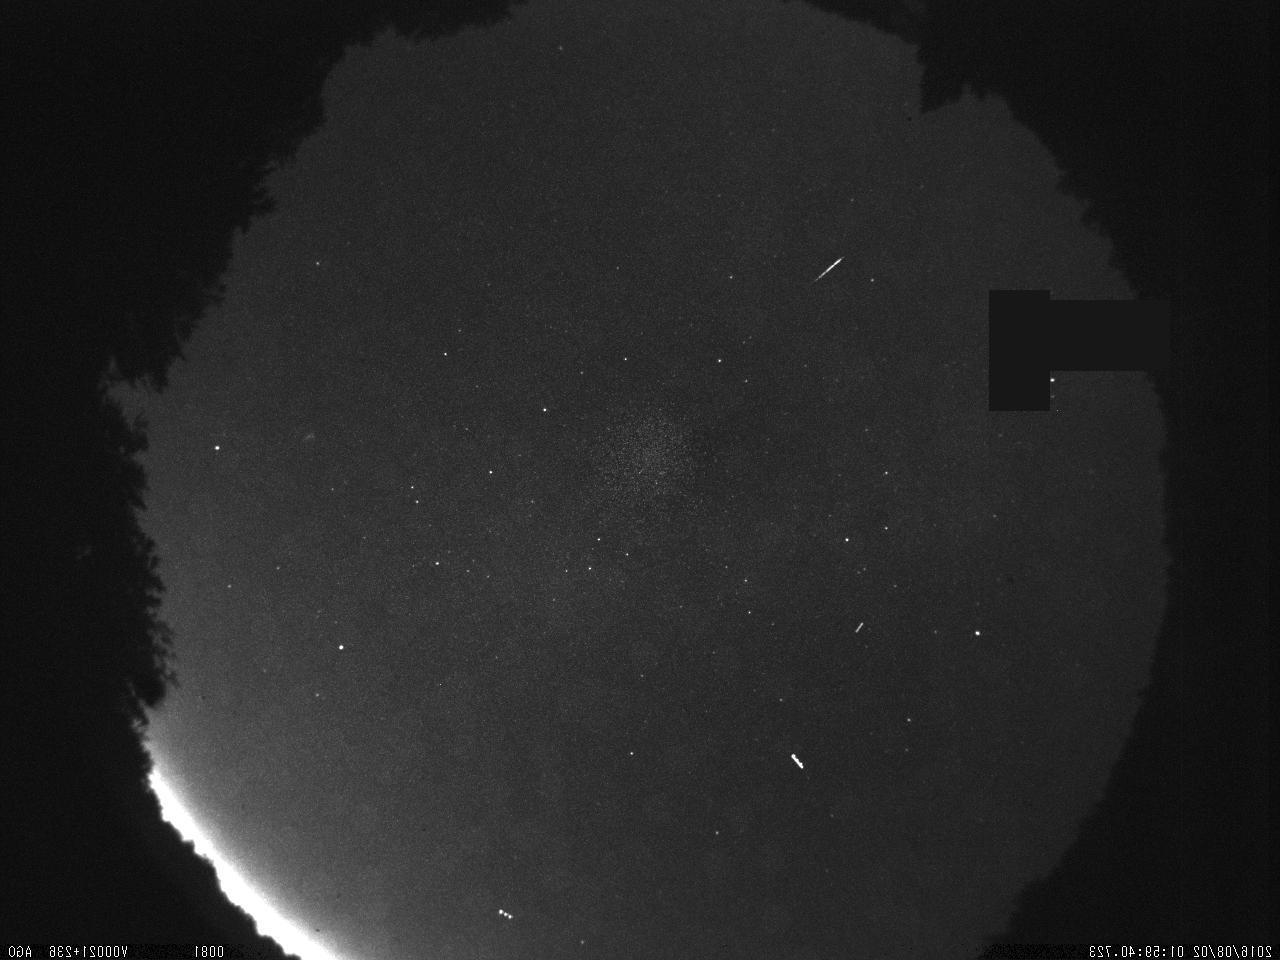meteor: (806, 247, 854, 294)
